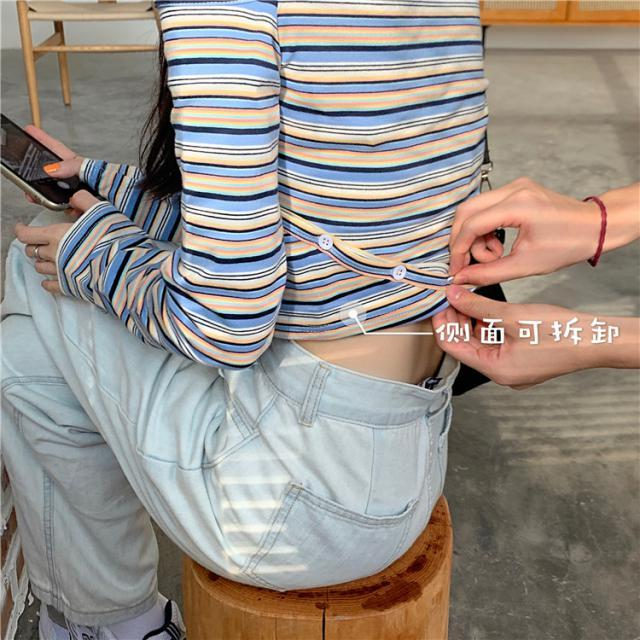Shirt: (54, 0, 492, 373)
